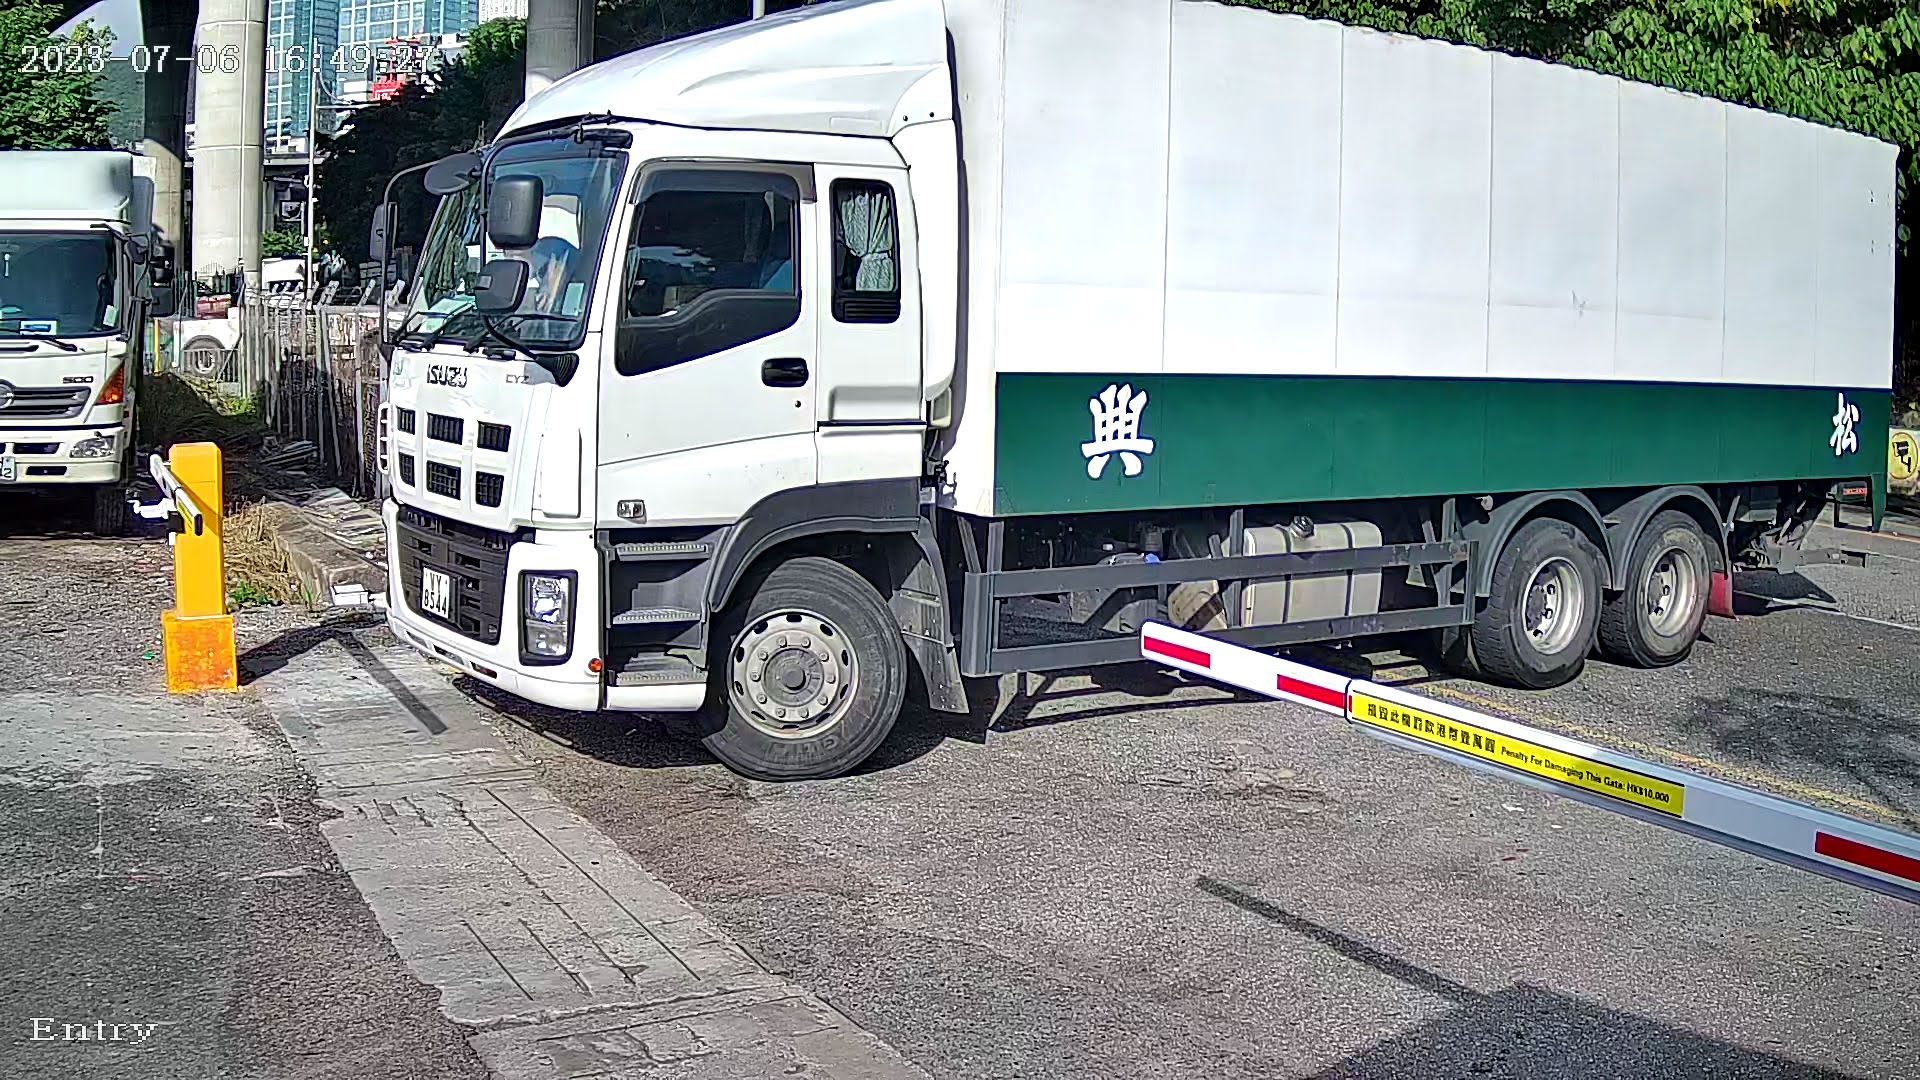truck: (357, 5, 1920, 812)
